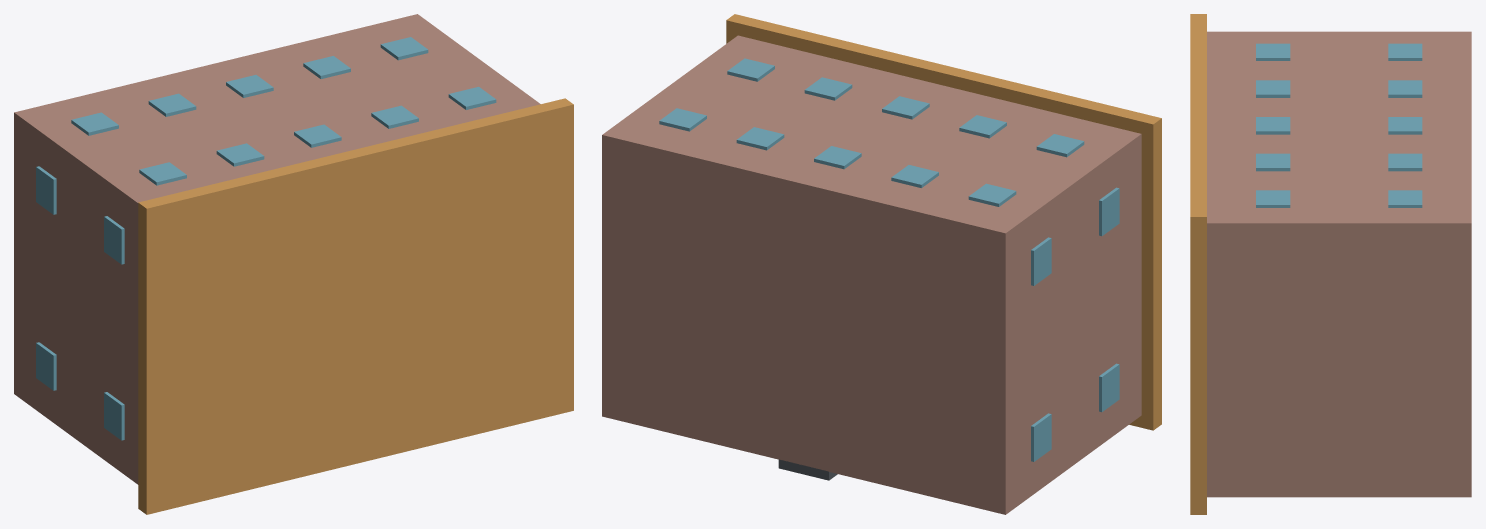
The model's file is restaurant.glb.
3 renders of one model, left to right at view 1: azimuth 30°, elevation 25°; view 2: azimuth 150°, elevation 25°; view 3: azimuth 270°, elevation 25°, orthographic. The views are drawn at different scales.
Visible parts, largest first — view 1: g1, g0, g12, g13, g24, g25, g11, g17, g23, g5, g19, g21 (+4 smaller); view 2: g0, g1, g13, g24, g25, g12, g9, g21, g3, g11, g15, g23 (+4 smaller); view 3: g0, g1, g9, g21, g5, g7, g11, g17, g19, g23, g3, g15.
Part boxes in pixels (box(x1,y1,x2,y2)): g1: box(138, 98, 573, 514); g0: box(14, 14, 540, 484); g12: box(36, 342, 56, 390); g13: box(36, 166, 56, 214); g24: box(104, 392, 124, 440); g25: box(104, 216, 124, 264); g11: box(380, 37, 428, 60); g17: box(216, 143, 264, 166); g23: box(448, 86, 496, 109); g5: box(148, 93, 196, 116); g19: box(294, 124, 341, 147); g21: box(371, 105, 418, 128); g0: box(602, 35, 1141, 514); g1: box(726, 14, 1161, 430); g13: box(1031, 237, 1051, 285); g24: box(1099, 363, 1119, 412); g25: box(1099, 187, 1119, 236); g12: box(1031, 413, 1051, 461); g9: box(736, 127, 784, 150); g21: box(804, 77, 852, 100); g3: box(968, 183, 1016, 206); g11: box(659, 108, 706, 131); g15: box(1036, 134, 1084, 157); g23: box(727, 58, 774, 81); g0: box(1207, 31, 1471, 497); g1: box(1190, 14, 1206, 514); g9: box(1388, 153, 1422, 171); g21: box(1256, 153, 1290, 171); g5: box(1388, 80, 1422, 97); g7: box(1388, 117, 1422, 134); g11: box(1388, 190, 1422, 207); g17: box(1256, 80, 1290, 97); g19: box(1256, 117, 1290, 134); g23: box(1256, 190, 1290, 207); g3: box(1388, 43, 1422, 60); g15: box(1256, 43, 1290, 60).
Size of the model in its own units: 12.7 by 8.7 by 7.44.
